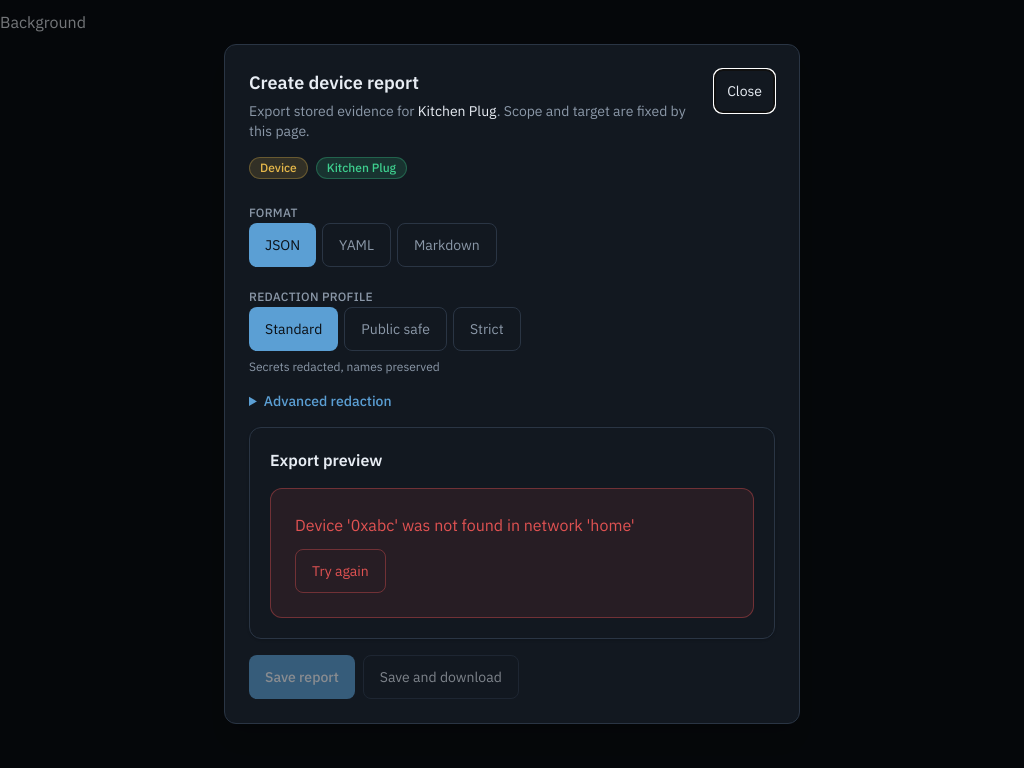
Scenario: ContextualReportDialog › shows the contextual target error and recovers when retry finds the target
Expected: the text "Device '0xabc' was not found in network 'home'" is shown, [295,515,635,535]
Click the button "Try again" at (340, 571), box [295,549,386,593]
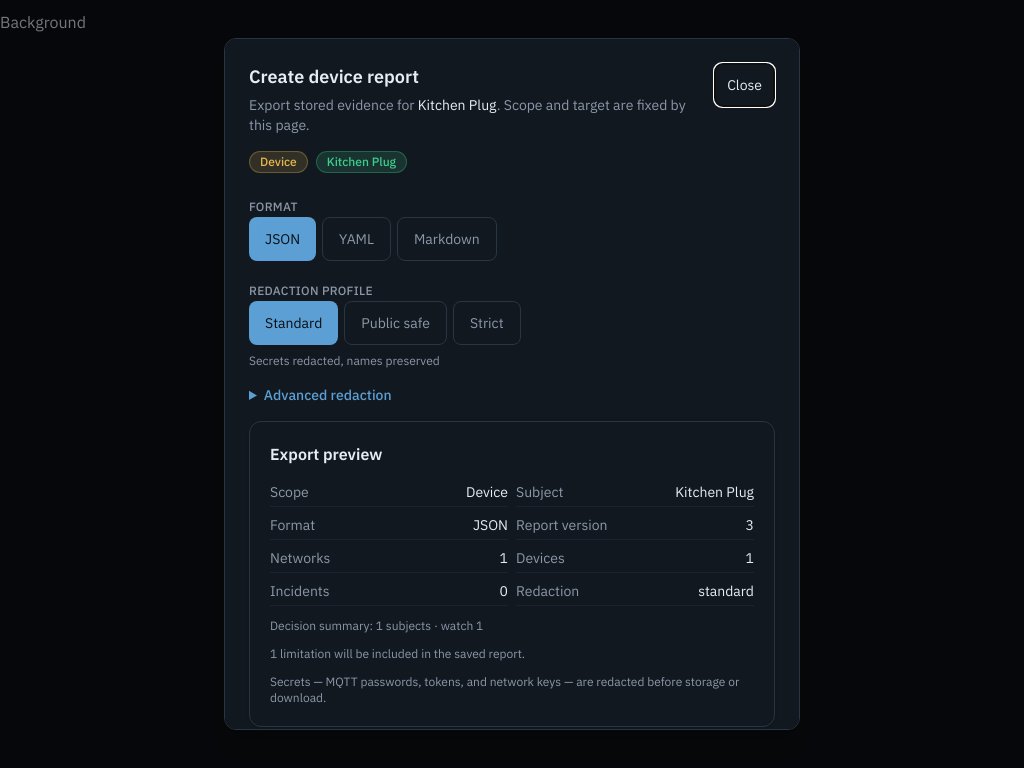
Now the text "Decision summary: 1 subjects · watch 1" is shown, box [270,618,483,633]
